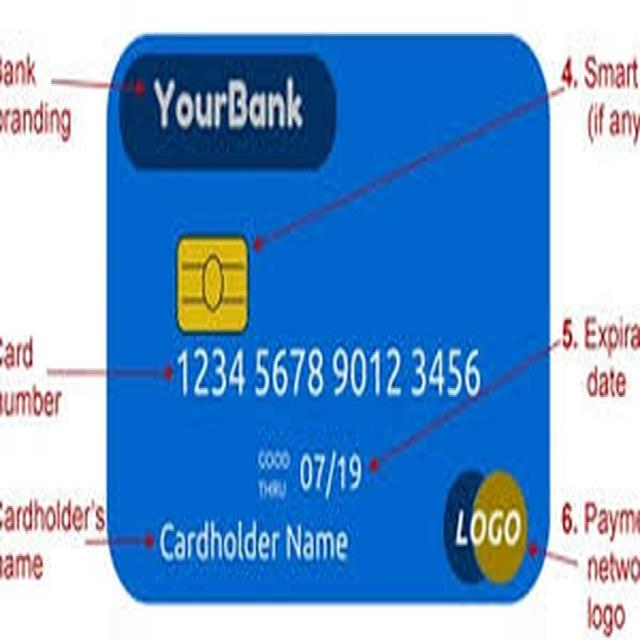card: (94, 19, 561, 607)
